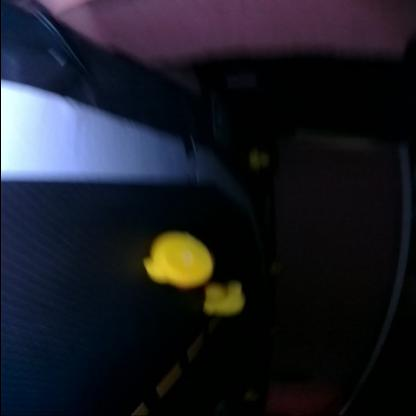Duckie: (144, 230, 214, 288), (204, 282, 244, 315), (251, 153, 269, 169)
